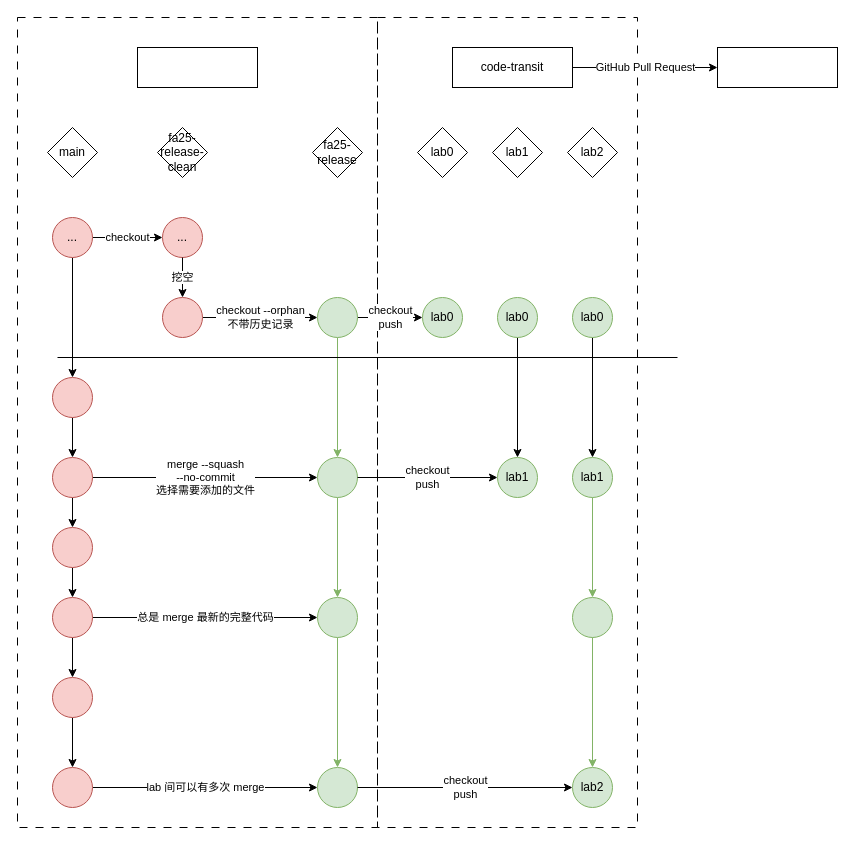
Some shapes in this 855 by 845 pixel diagram are drawn without their labels. Each missing label, with the box of its shape:
code: (716, 46, 838, 88)
code-private: (136, 46, 258, 88)
lab0 进度: (316, 296, 358, 338)
lab1 进度: (316, 456, 358, 498)
lab2 进度: (316, 766, 358, 808)
